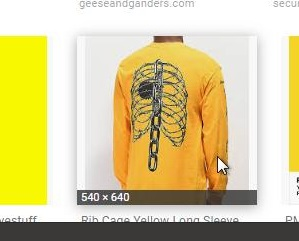cursor: (216, 155, 230, 175)
